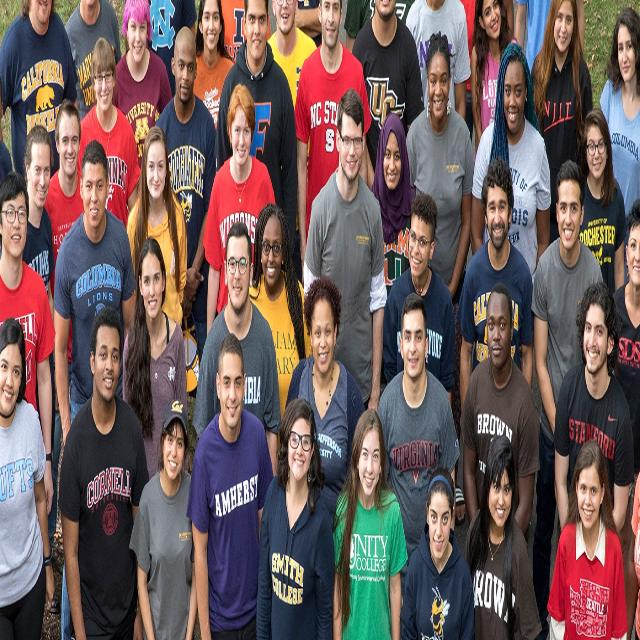body: (62, 0, 472, 119), (52, 137, 136, 639), (528, 156, 603, 640), (56, 302, 158, 639), (404, 32, 474, 490), (302, 86, 389, 417), (185, 331, 275, 640), (376, 290, 461, 597), (153, 24, 217, 400), (192, 219, 282, 486), (294, 0, 372, 294), (212, 0, 298, 260), (454, 152, 536, 418), (458, 280, 542, 537), (284, 273, 366, 530), (553, 278, 635, 534), (469, 39, 552, 288), (254, 393, 337, 639), (0, 168, 57, 524), (202, 82, 278, 342), (328, 405, 411, 639), (44, 97, 86, 557), (0, 316, 56, 640), (461, 431, 543, 639), (121, 236, 188, 485), (546, 437, 628, 640), (248, 202, 313, 453), (382, 193, 456, 410), (529, 159, 590, 410), (266, 0, 318, 290), (137, 397, 199, 640), (0, 0, 79, 183), (351, 0, 425, 191), (399, 465, 476, 640), (76, 36, 142, 233), (607, 196, 640, 580), (126, 124, 188, 328), (599, 4, 640, 288), (110, 0, 172, 172), (576, 106, 628, 299), (370, 111, 419, 298), (469, 0, 519, 172), (22, 125, 56, 327), (501, 0, 586, 73), (191, 0, 236, 134), (628, 467, 640, 640), (0, 77, 14, 192)
